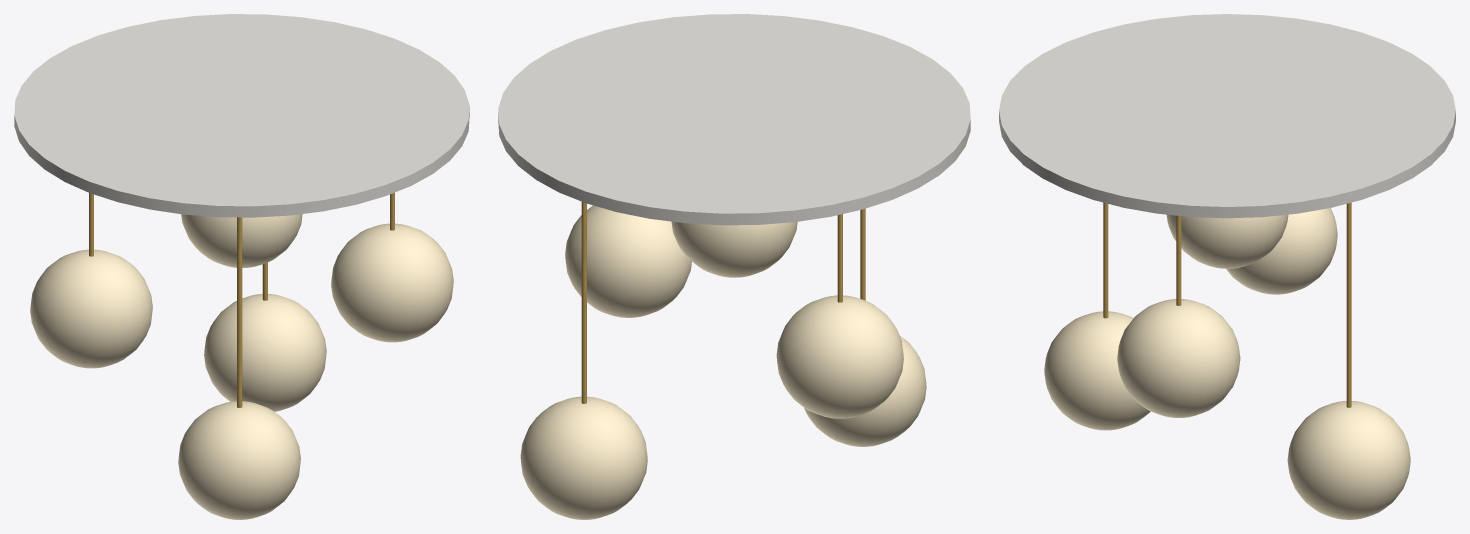
Rendered from Chandelier_01.gltf.
3 renders of one model, left to right at view 1: azimuth 30°, elevation 25°; view 2: azimuth 150°, elevation 25°; view 3: azimuth 270°, elevation 25°, orthographic. The views are drawn at different scales.
Parts seen in each view (by area): view 1: Chandelier_01; view 2: Chandelier_01; view 3: Chandelier_01.
Part boxes in pixels (box(x1,y1,x2,y2)): Chandelier_01: box(14, 14, 469, 519); Chandelier_01: box(498, 14, 970, 519); Chandelier_01: box(999, 14, 1455, 519).
Bounding box in the file's own units: 0.8 × 0.7 × 0.8.
